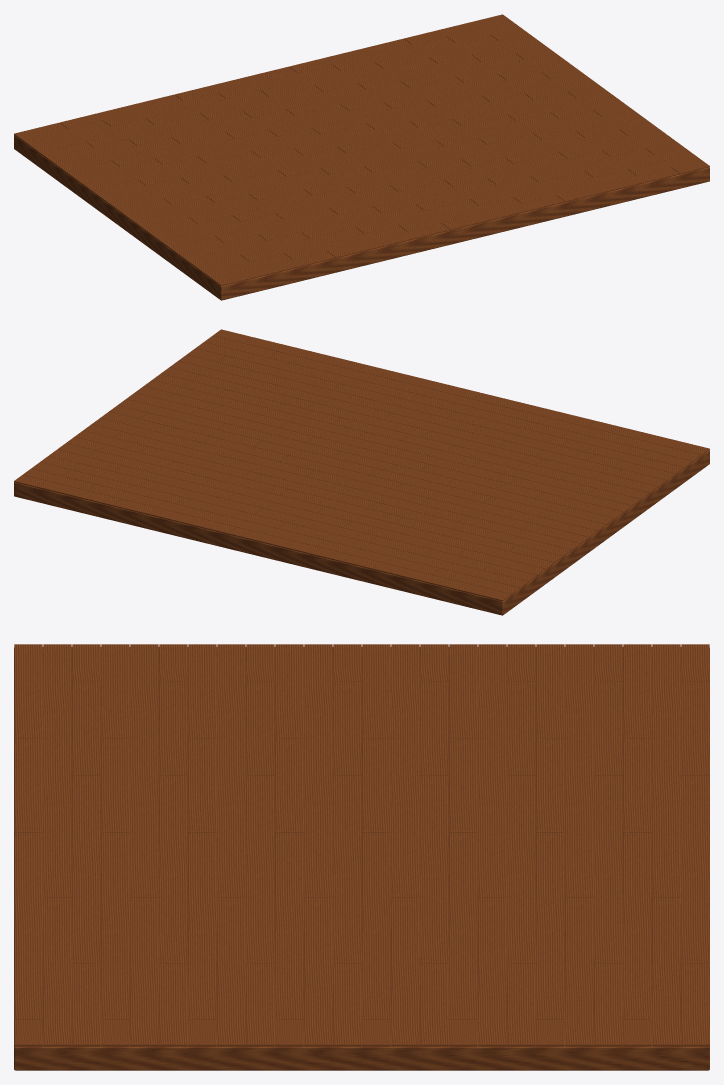
The model's file is Tripo_Floor.fbx.
3 renders of one model, top to bottom at view 1: azimuth 30°, elevation 25°; view 2: azimuth 150°, elevation 25°; view 3: azimuth 270°, elevation 25°, orthographic. The views are drawn at different scales.
Parts seen in each view (by area): view 1: floor_mesh; view 2: floor_mesh; view 3: floor_mesh.
Boxes of the visible parts, x1,y1,x2,y2 form: floor_mesh: (14,14,709,300); floor_mesh: (14,329,709,615); floor_mesh: (14,644,709,1070).
Size of the model in its own units: 14 by 0.4288 by 10.28.
Materials: 1 (1 with a texture image).
